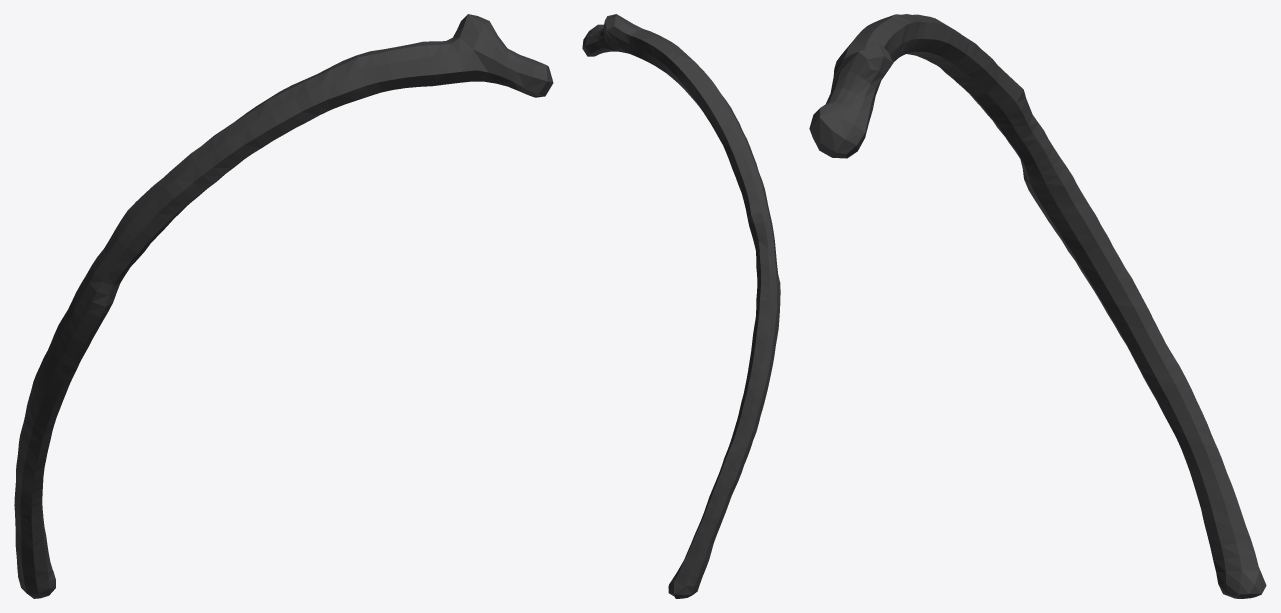
The model's file is Rib_10_R.glb.
The picture shows the model from 3 angles, left to right: view 1: azimuth 30°, elevation 25°; view 2: azimuth 150°, elevation 25°; view 3: azimuth 270°, elevation 25°; orthographic projection. The views are drawn at different scales.
Visible parts, largest first — view 1: Rib_10_R; view 2: Rib_10_R; view 3: Rib_10_R.
Boxes of the visible parts, x1,y1,x2,y2 form: Rib_10_R: (14,14,553,598); Rib_10_R: (582,14,780,598); Rib_10_R: (809,14,1266,598).
Bounding box in the file's own units: 4.81 × 7.64 × 4.55.
1 material, 1 textured.
